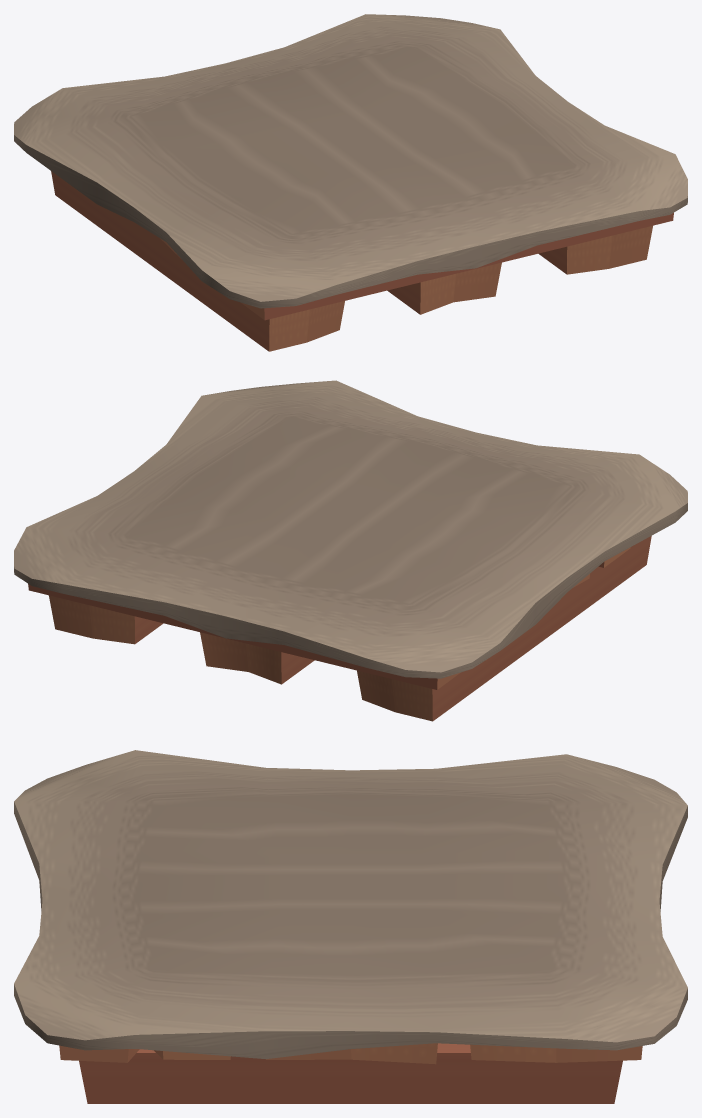
The model's file is Pallet_Wood_Covered_B.gltf.
3 views of the same model, one above another, from view 1: azimuth 30°, elevation 25°; view 2: azimuth 150°, elevation 25°; view 3: azimuth 270°, elevation 25° (orthographic). The views are drawn at different scales.
Visible parts, largest first — view 1: Pallet_Wood_Covered_B; view 2: Pallet_Wood_Covered_B; view 3: Pallet_Wood_Covered_B.
Part boxes in pixels (box(x1,y1,x2,y2)): Pallet_Wood_Covered_B: box(14, 14, 687, 351); Pallet_Wood_Covered_B: box(14, 380, 687, 721); Pallet_Wood_Covered_B: box(14, 750, 687, 1103).
Size of the model in its own units: 1.72 by 0.3 by 1.72.
1 material, 1 textured.
